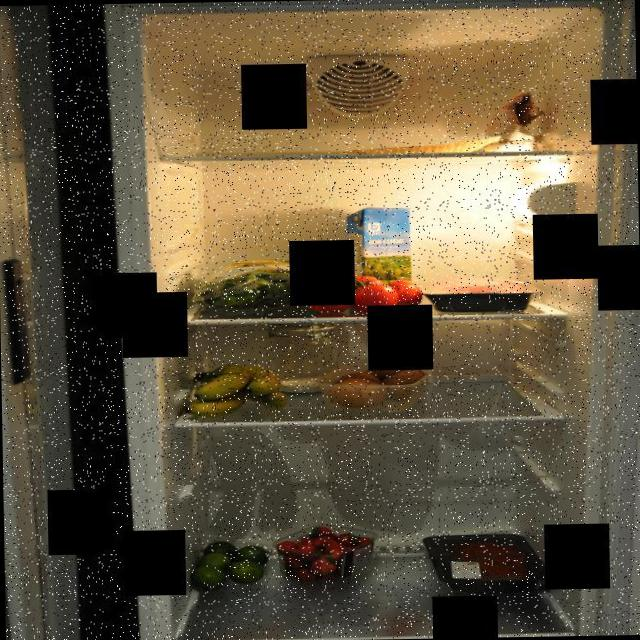Carne vacuno: (421, 532, 552, 596), (420, 274, 544, 312)
Leche: (342, 205, 414, 302)
Patata: (326, 360, 432, 412)
Plátano: (186, 362, 286, 418)
Tomate: (304, 272, 422, 318)
flour: (255, 324, 344, 402), (479, 89, 554, 150)
spinach: (186, 258, 340, 314)
strawberries: (272, 520, 381, 584)
